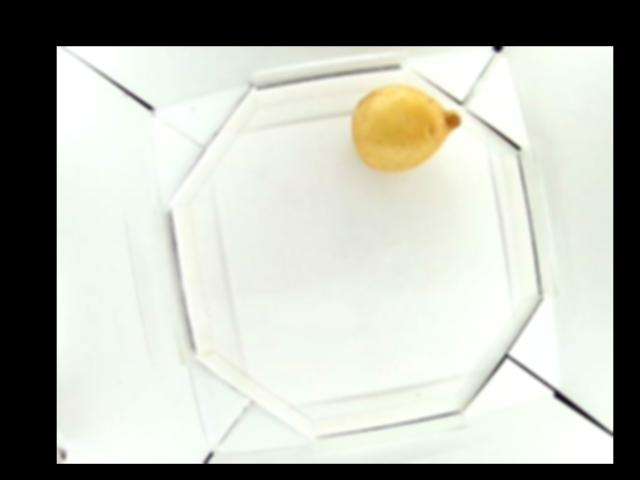Potato: (352, 84, 460, 172)
